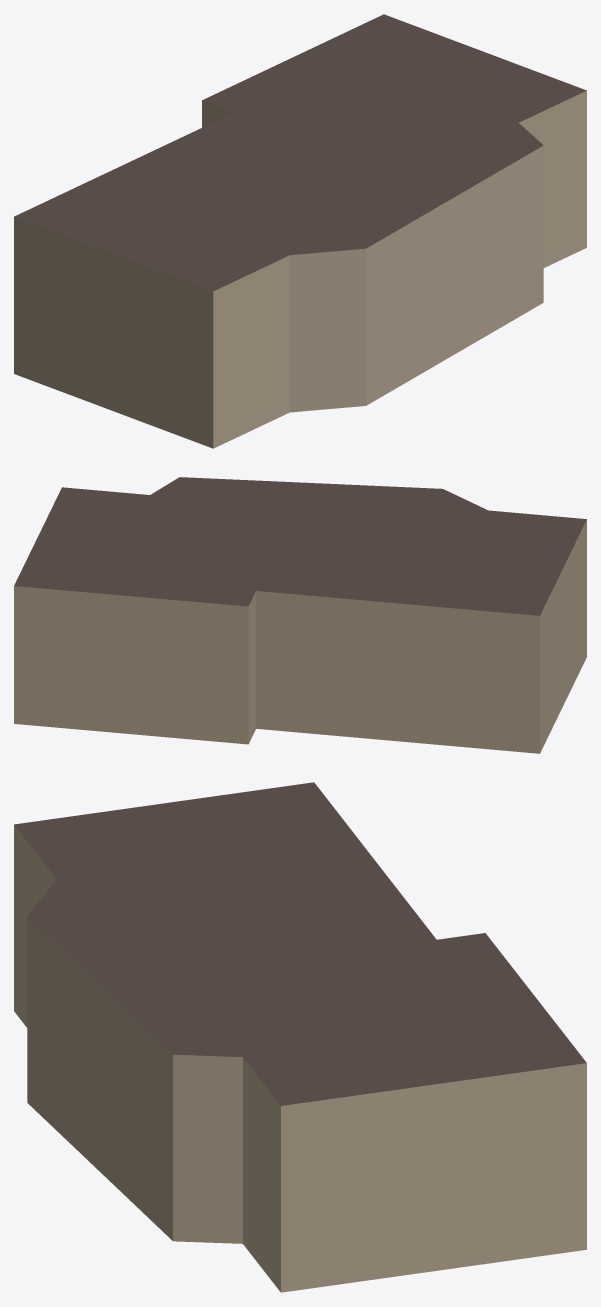
The picture shows the model from 3 angles, top to bottom: view 1: azimuth 30°, elevation 25°; view 2: azimuth 150°, elevation 25°; view 3: azimuth 270°, elevation 25°; orthographic projection. The views are drawn at different scales.
Parts seen in each view (by area): view 1: HP-w781767761; view 2: HP-w781767761; view 3: HP-w781767761.
Part boxes in pixels (bbox=[...]): HP-w781767761: bbox=[14, 14, 586, 448]; HP-w781767761: bbox=[14, 477, 586, 753]; HP-w781767761: bbox=[14, 782, 586, 1292].
Size of the model in its own units: 33.47 by 9 by 25.04.
